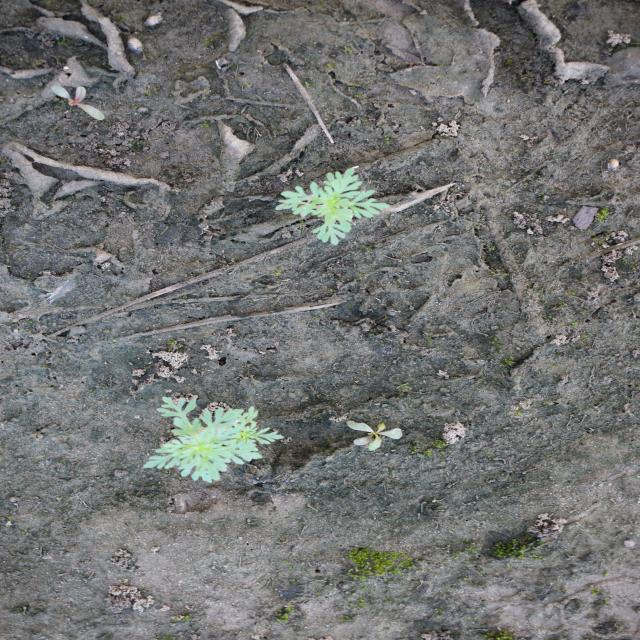Carpetweed: (343, 416, 406, 454)
Ragweed: (140, 394, 284, 485), (272, 166, 392, 247)
